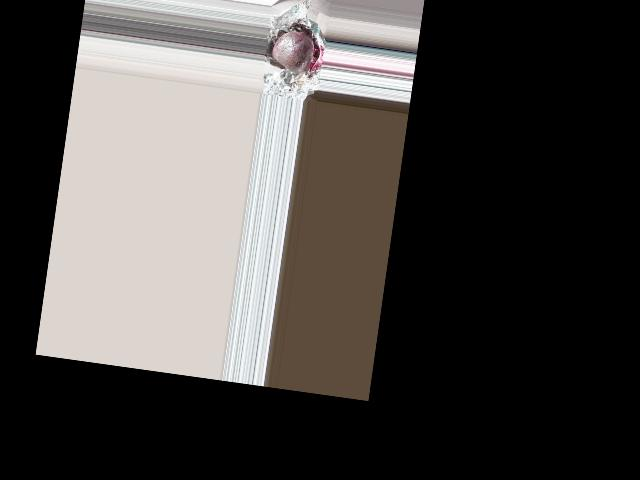beet: (270, 28, 314, 75)
